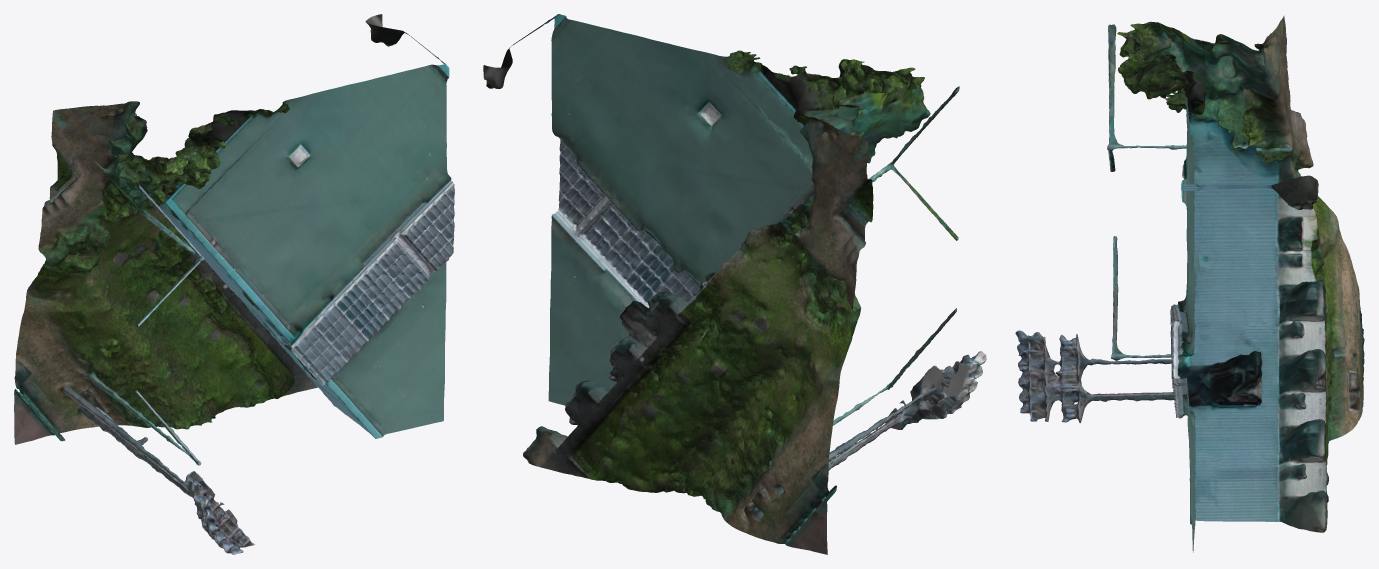
File: Tile_+018_+009.fbx
3 renders of one model, left to right at view 1: azimuth 30°, elevation 25°; view 2: azimuth 150°, elevation 25°; view 3: azimuth 270°, elevation 25°, orthographic. The views are drawn at different scales.
Visible parts, largest first — view 1: DefaultName; view 2: DefaultName; view 3: DefaultName.
Boxes of the visible parts, x1,y1,x2,y2 form: DefaultName: (14, 14, 454, 554); DefaultName: (483, 14, 986, 554); DefaultName: (1015, 15, 1364, 552).
Bounding box in the file's own units: 22.54 × 22.54 × 19.34.
